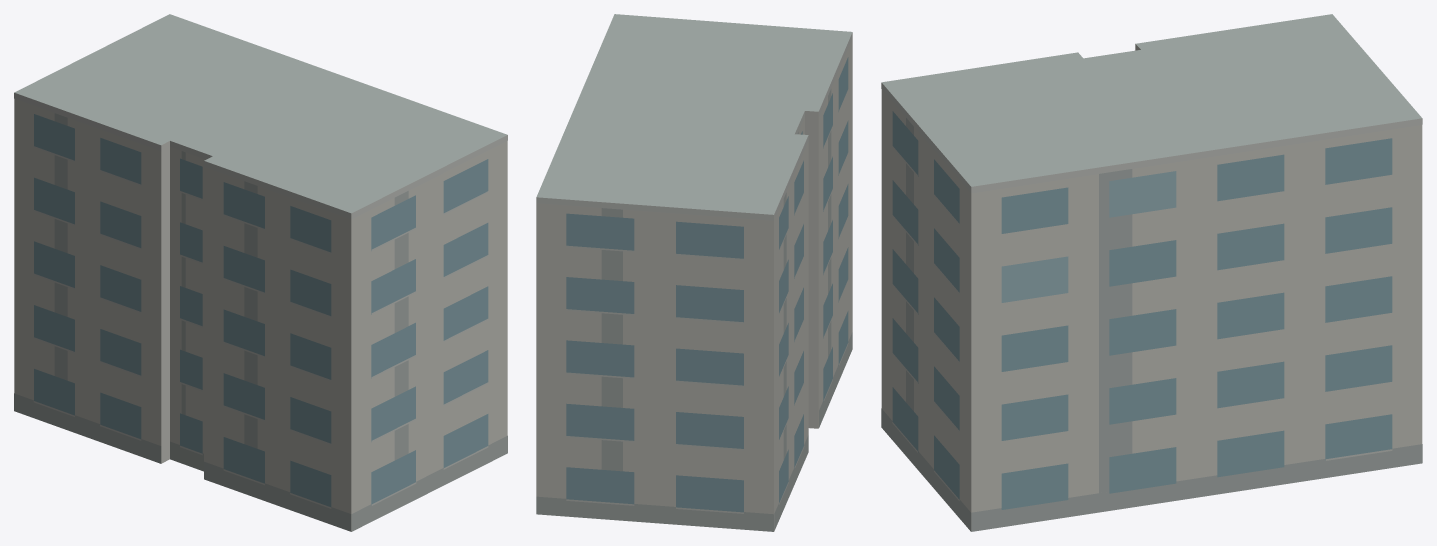
Rendered from survey-upis-32865648.glb.
3 views of the same model, side by side, from view 1: azimuth 30°, elevation 25°; view 2: azimuth 150°, elevation 25°; view 3: azimuth 270°, elevation 25° (orthographic). The views are drawn at different scales.
Visible parts, largest first — view 1: survey-upis-32865648.tmp; view 2: survey-upis-32865648.tmp; view 3: survey-upis-32865648.tmp.
Part boxes in pixels (bbox=[...]): survey-upis-32865648.tmp: bbox=[14, 14, 507, 531]; survey-upis-32865648.tmp: bbox=[536, 14, 852, 531]; survey-upis-32865648.tmp: bbox=[881, 14, 1422, 531].
Size of the model in its own units: 13.98 by 13 by 18.48.
